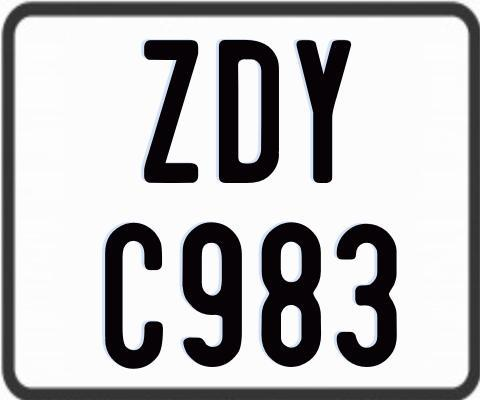3: (335, 221, 399, 370)
8: (261, 220, 326, 365)
9: (180, 222, 244, 368)
C: (103, 223, 165, 374)
D: (219, 39, 285, 185)
Y: (295, 40, 355, 189)
Z: (144, 37, 204, 181)
